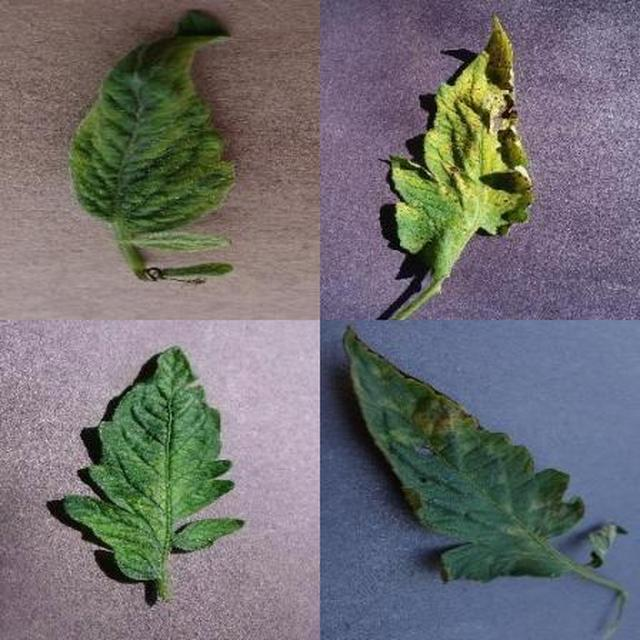Yellow Leaf Curl Virus: (204, 169, 640, 640)
